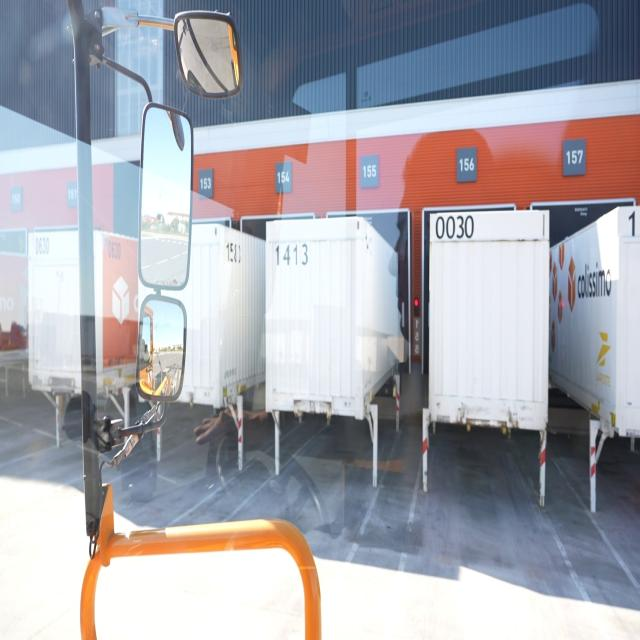Code: (433, 212, 476, 245), (271, 238, 311, 270), (222, 236, 243, 271), (31, 232, 52, 258), (105, 239, 124, 262)
